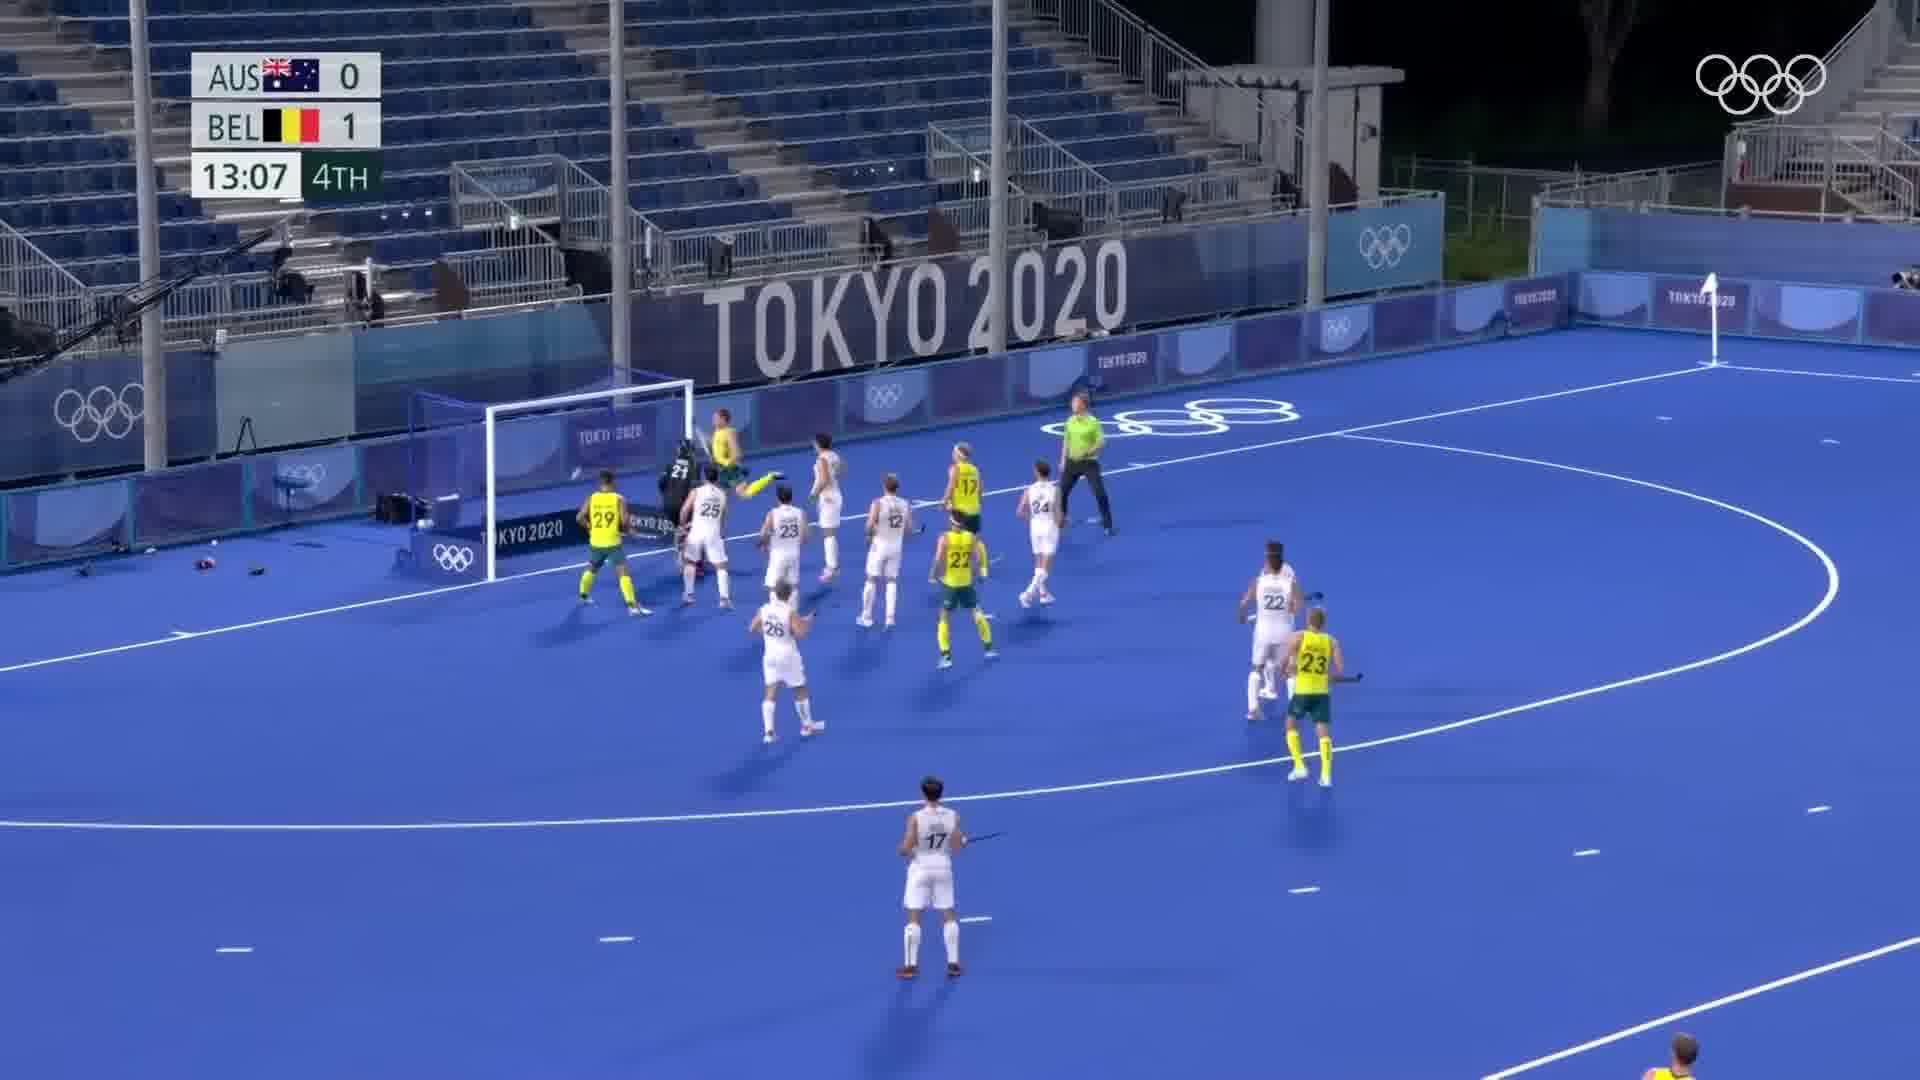ball: (568, 464, 585, 487)
